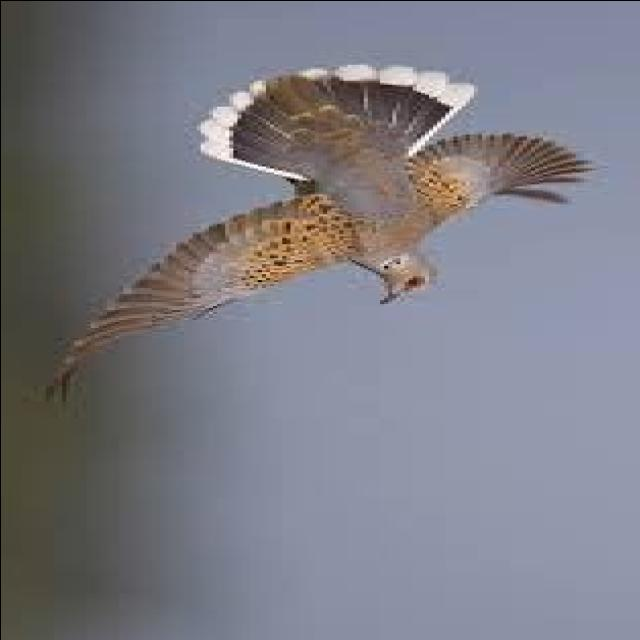pigeon: (0, 54, 631, 394)
